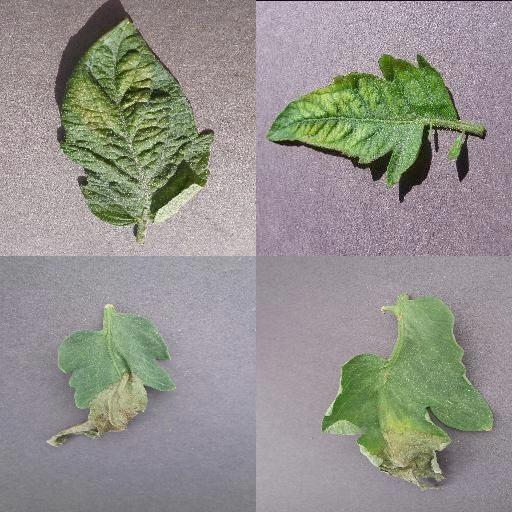Late Blight: (321, 293, 495, 491), (46, 313, 176, 447)
Mosaic Virus: (265, 51, 459, 191)
Spider Mites: (61, 13, 215, 225)
